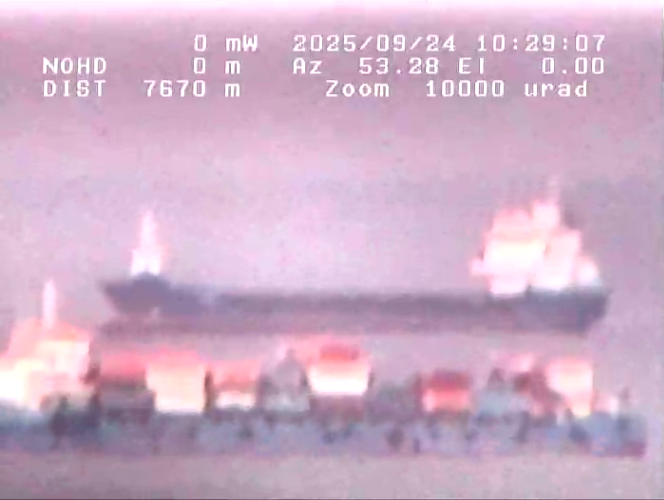CARGO_SHIPS: (1, 269, 656, 460)
TANKER: (90, 175, 646, 341)
